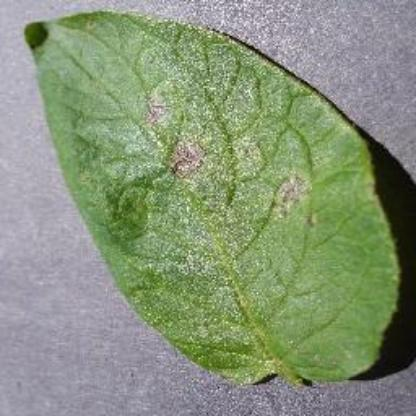Early-Blight: (16, 6, 402, 388)
